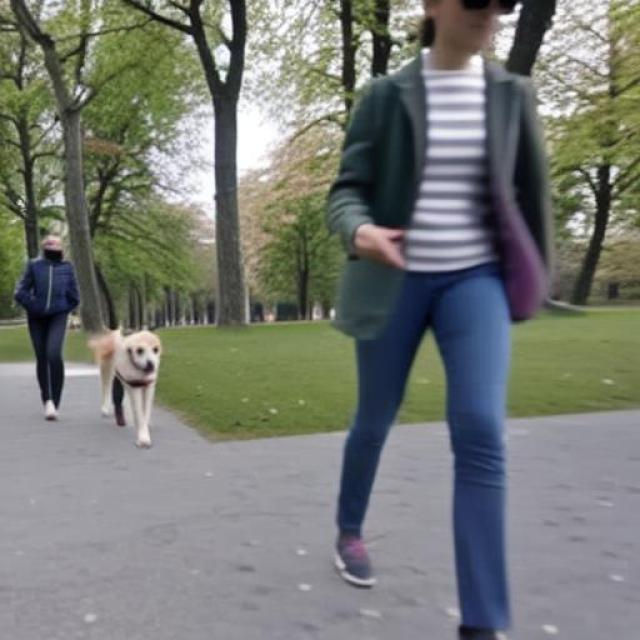Unleashed_Dog: (29, 311, 162, 447)
